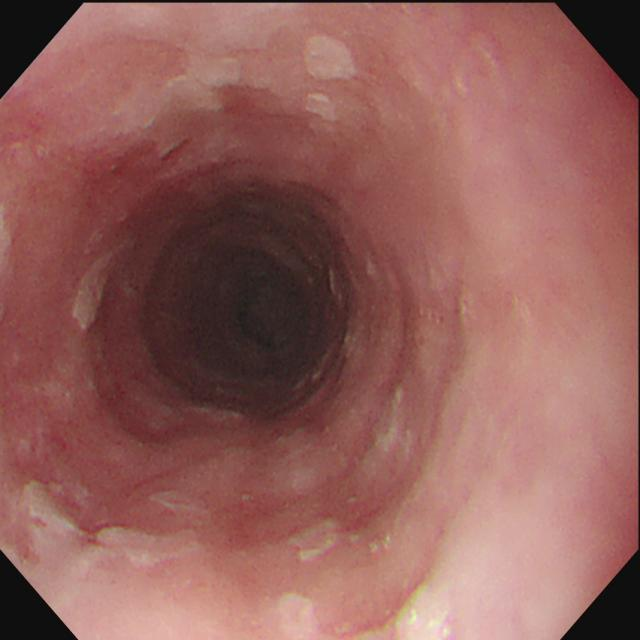E: (151, 199, 340, 412)
J: (145, 6, 278, 165), (21, 482, 213, 577), (276, 403, 414, 502), (305, 31, 357, 123), (71, 248, 120, 332)
